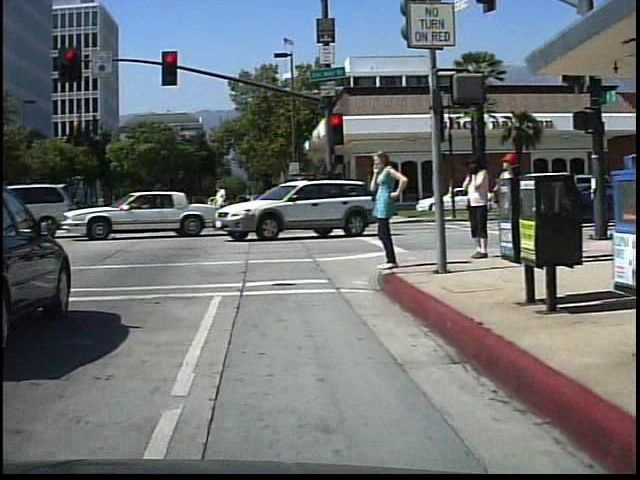person: (366, 147, 408, 277), (456, 148, 494, 261), (487, 146, 526, 242)
